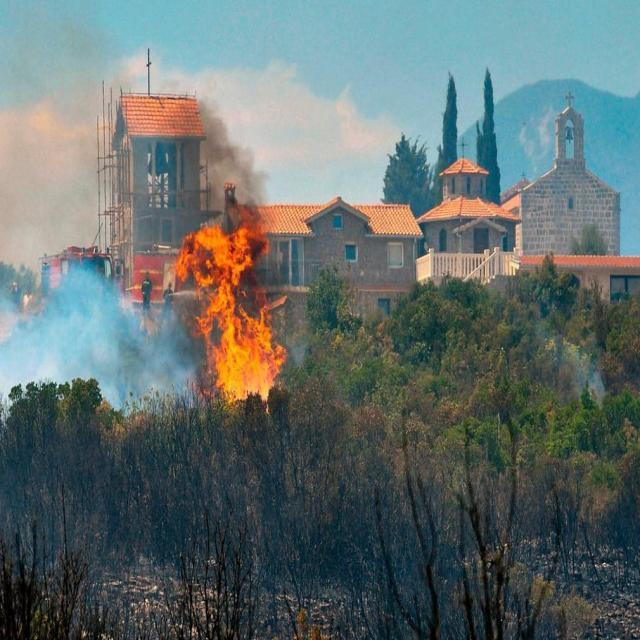Fire: (178, 225, 292, 405), (22, 289, 36, 307)
Smoke: (44, 272, 180, 402), (198, 105, 268, 226), (546, 328, 608, 414), (1, 312, 44, 404)
